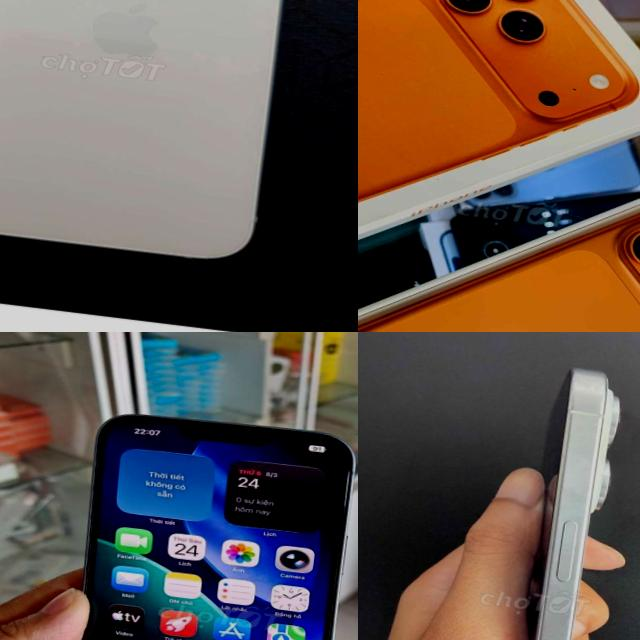gen_14: (56, 401, 358, 640)
gen_15: (0, 0, 326, 282)
gen_16: (529, 368, 619, 640)
